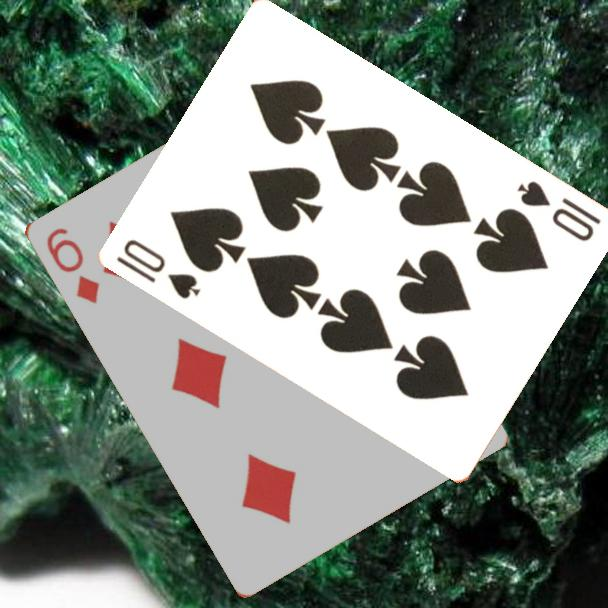d06: (42, 224, 102, 307)
s10: (514, 176, 605, 245), (113, 235, 204, 302)
